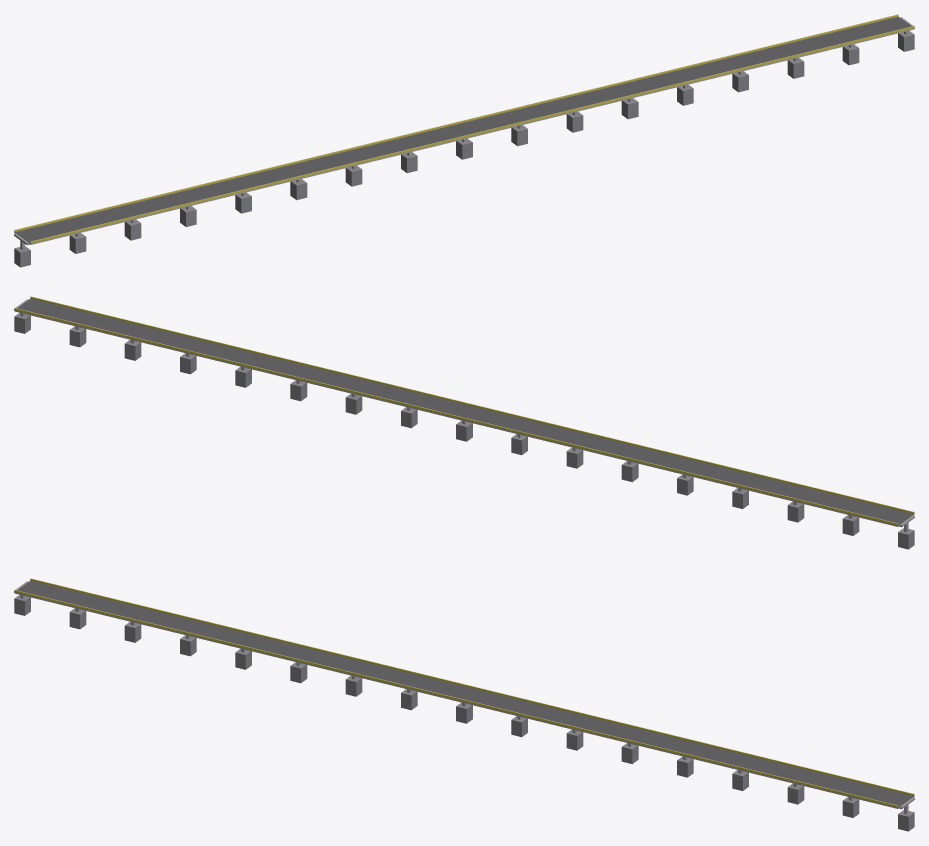
The picture shows the model from 3 angles, top to bottom: view 1: azimuth 30°, elevation 25°; view 2: azimuth 150°, elevation 25°; view 3: azimuth 330°, elevation 25°; orthographic projection.
Visible parts, largest first — view 1: asphalt/road_surface, barrier/barrier_right, barrier/barrier_left, deck/deck_slab; view 2: asphalt/road_surface, barrier/barrier_left, barrier/barrier_right, deck/deck_slab; view 3: asphalt/road_surface, barrier/barrier_right, barrier/barrier_left, deck/deck_slab.
Part boxes in pixels (x1,y1,x2,y2): asphalt/road_surface: (15, 16, 911, 243); barrier/barrier_right: (30, 26, 914, 243); barrier/barrier_left: (14, 14, 898, 231); deck/deck_slab: (14, 28, 914, 244); asphalt/road_surface: (17, 298, 913, 525); barrier/barrier_left: (14, 308, 898, 525); barrier/barrier_right: (30, 296, 914, 513); deck/deck_slab: (14, 310, 914, 526); asphalt/road_surface: (17, 580, 913, 807); barrier/barrier_right: (14, 590, 898, 807); barrier/barrier_left: (30, 578, 914, 795); deck/deck_slab: (14, 592, 914, 808).
Bounding box in the file's own units: 506 × 15.2 × 16.
